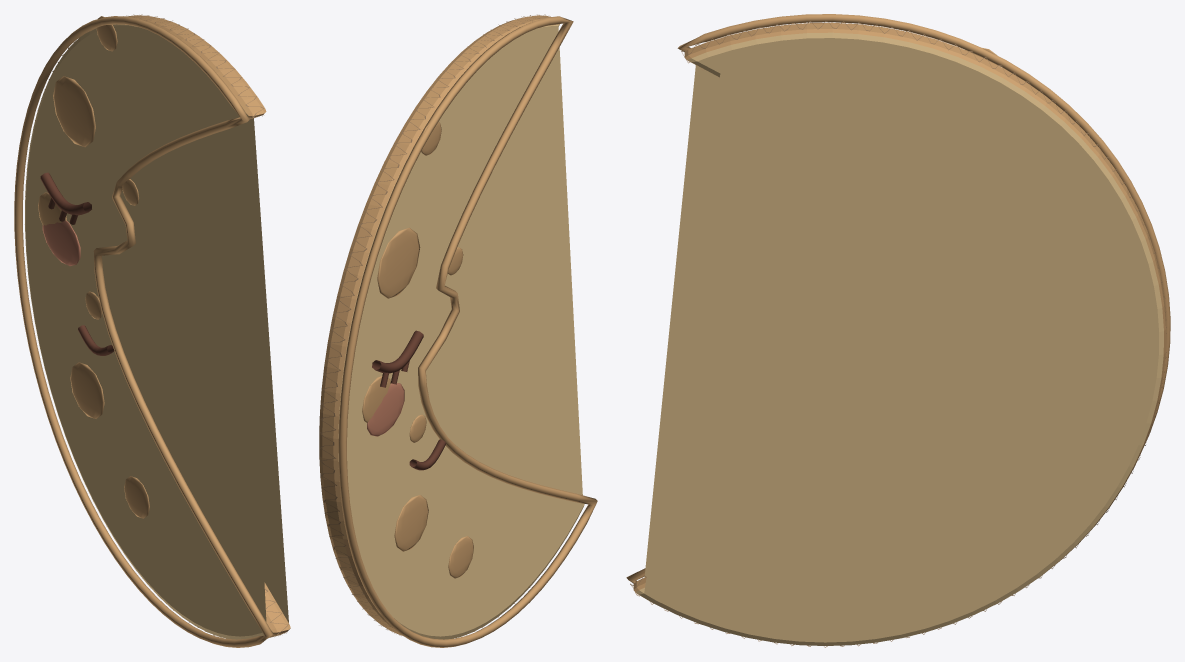
File: SM_Menu_ScenicMoon.fbx
3 renders of one model, left to right at view 1: azimuth 30°, elevation 25°; view 2: azimuth 150°, elevation 25°; view 3: azimuth 270°, elevation 25°, orthographic. The views are drawn at different scales.
Parts seen in each view (by area): view 1: Crescent plywood.001_Baked; view 2: Crescent plywood.001_Baked; view 3: Crescent plywood.001_Baked.
Boxes of the visible parts, <box> form: Crescent plywood.001_Baked: <box>14,14,290,647</box>; Crescent plywood.001_Baked: <box>319,14,597,647</box>; Crescent plywood.001_Baked: <box>626,14,1170,647</box>.
Bounding box in the file's own units: 9.22 × 118 × 150.
